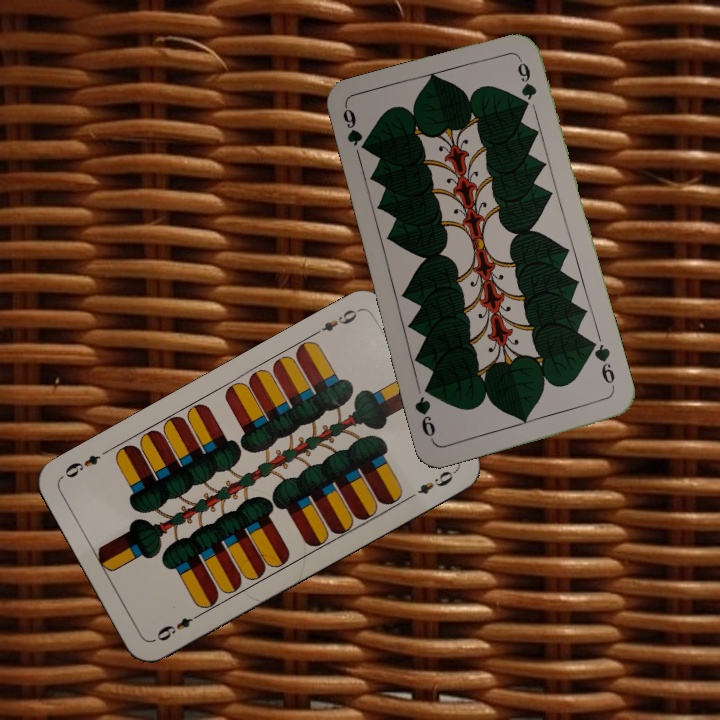E9: (311, 303, 366, 338), (150, 609, 204, 644)
G9: (586, 337, 618, 393), (338, 104, 366, 152)
